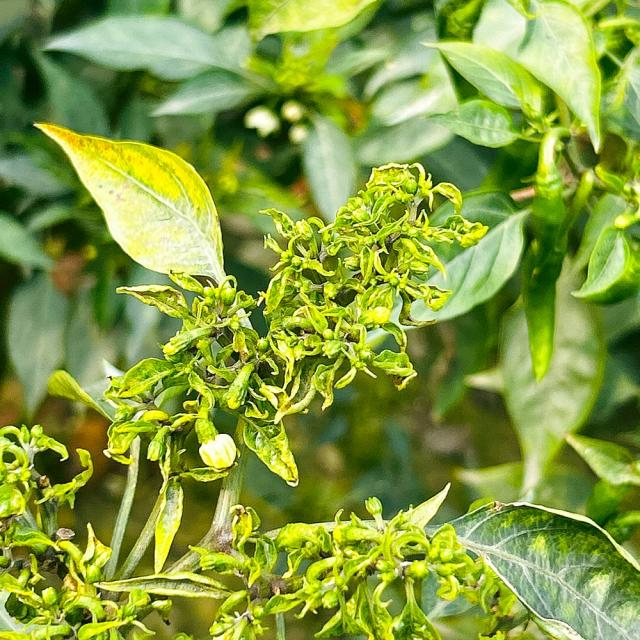Chilli_Leaf_Curl: (2, 2, 638, 637), (33, 120, 489, 490), (256, 160, 488, 409), (260, 482, 480, 638), (32, 119, 227, 286), (434, 498, 639, 638), (398, 207, 531, 327), (197, 432, 238, 471)
